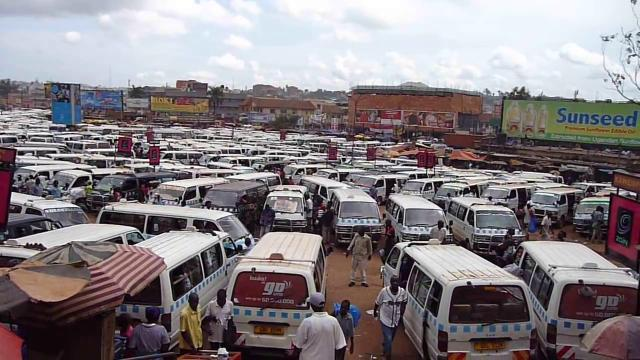van: (102, 227, 241, 352), (387, 239, 530, 360), (509, 241, 639, 358), (234, 232, 327, 359), (104, 202, 250, 260), (445, 195, 526, 255), (11, 223, 141, 255), (202, 182, 278, 232), (383, 192, 450, 248), (324, 187, 383, 246), (69, 166, 144, 207), (145, 176, 231, 210), (8, 195, 89, 231), (262, 186, 313, 236), (528, 185, 585, 228), (296, 174, 355, 214), (477, 181, 539, 217), (400, 175, 469, 206), (44, 168, 100, 206), (347, 171, 411, 204), (12, 164, 80, 192), (573, 195, 619, 236), (572, 182, 611, 198)
